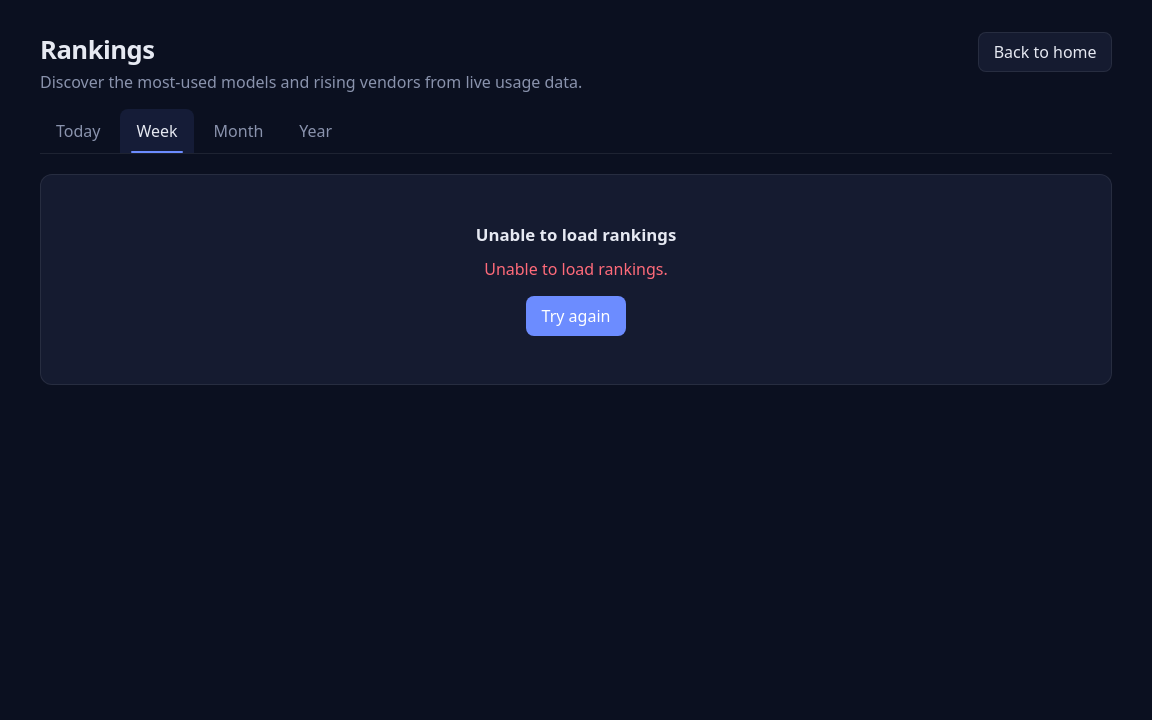
Test case: RankingsView › redacts failures, retries, and aborts an in-flight request on unmount
The image size is (1152, 720).
Check: the message reads "Unable to load rankings.", box [484,258,668,280]
Click the button "Try again": coordinates (576, 316) [526,296,626,336]
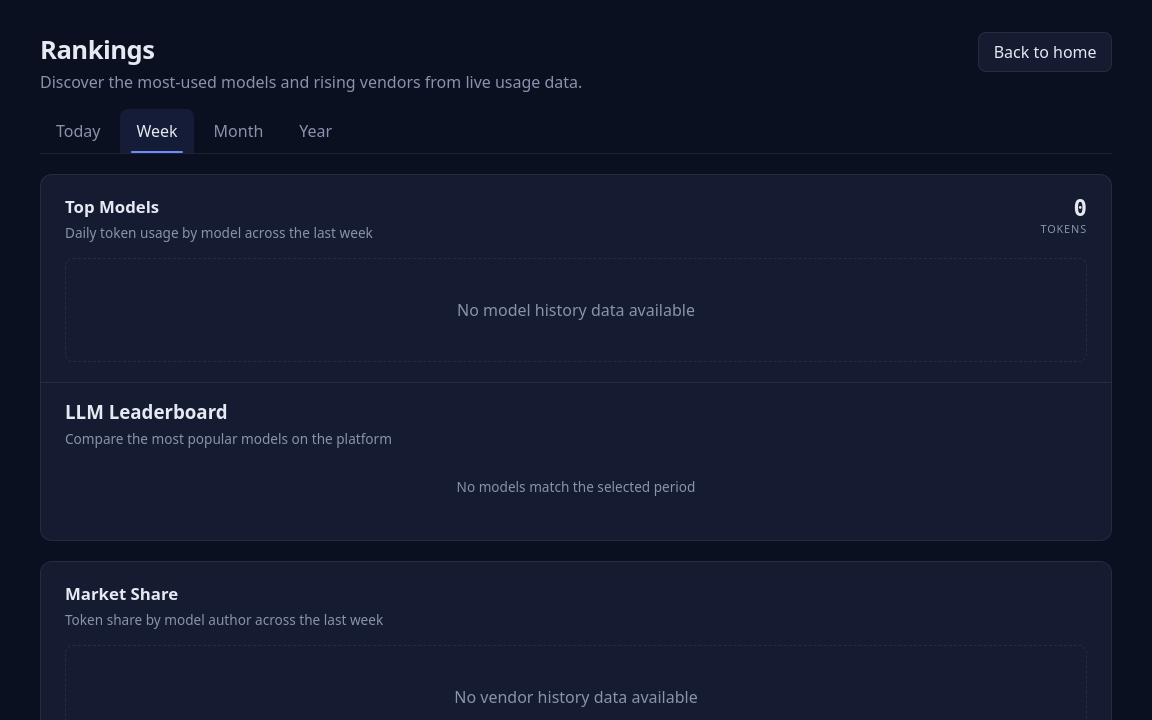
Check: the text "No models match the selected period" is shown, box [456,477,695,496]
